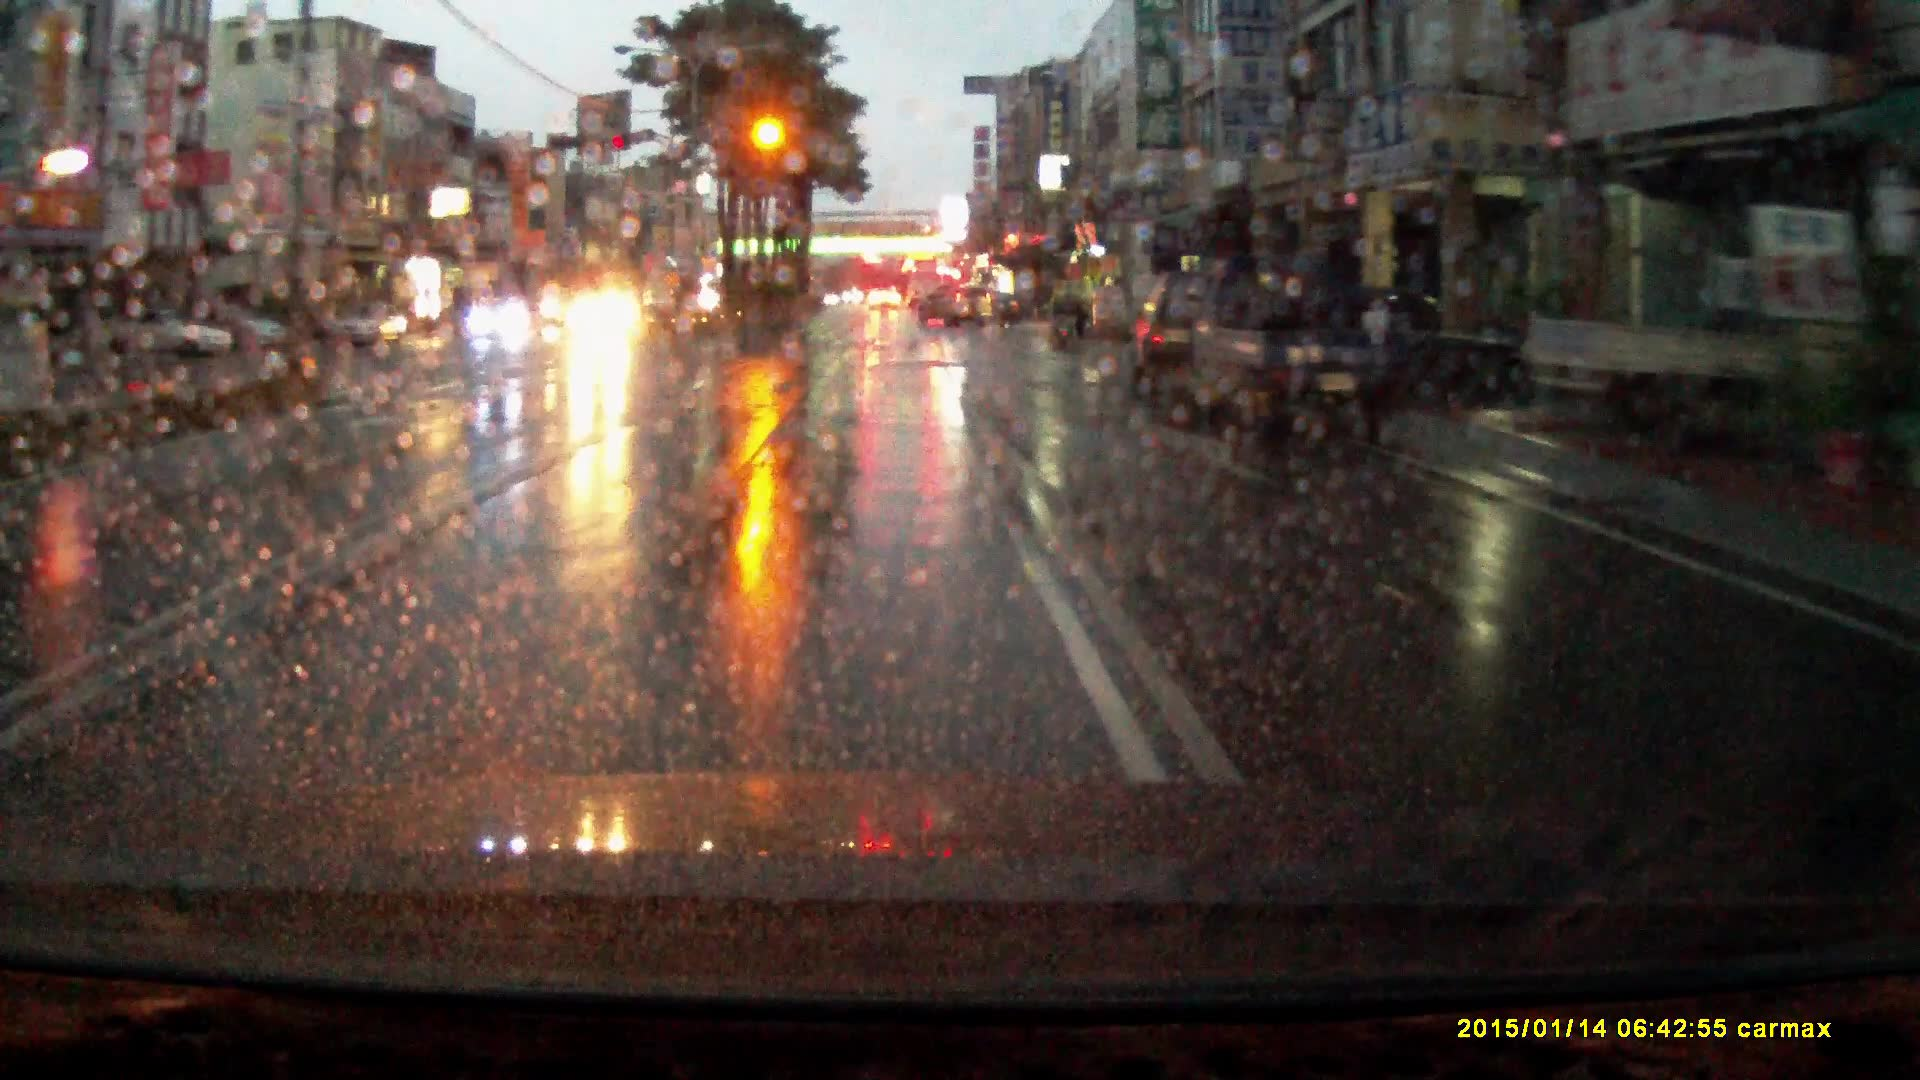vehicle: (1530, 255, 1903, 452), (1197, 247, 1403, 427), (1135, 266, 1208, 407), (112, 309, 237, 361), (564, 287, 644, 347), (339, 299, 407, 355), (920, 284, 997, 328), (471, 294, 535, 342), (218, 306, 281, 353), (909, 258, 944, 305), (866, 287, 903, 313), (992, 291, 1021, 322)
